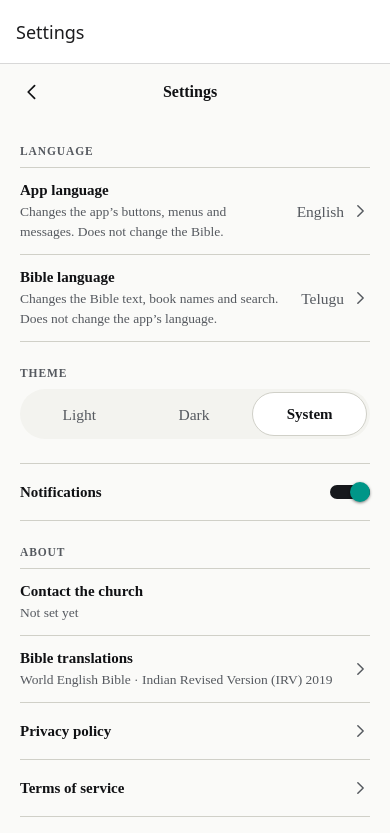
Test case: SettingsScreen › says so when a change saved locally but could not reach the account
Click the button with test id "settings-bible-language": click(195, 298) [20,255,370,341]
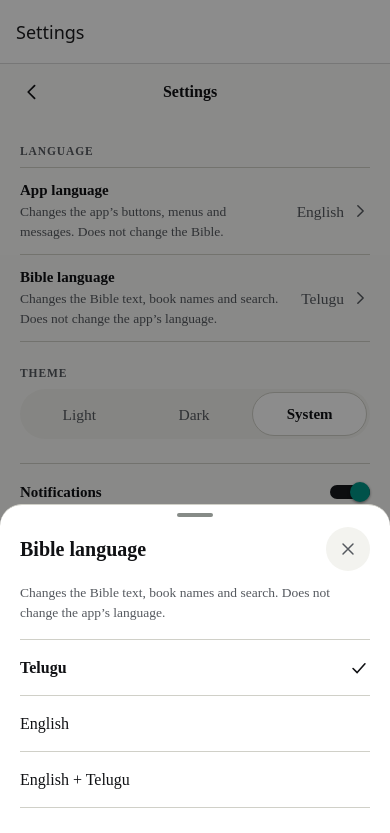
Click the radio button with test id "settings-bible-language-en": click(195, 724) [20,696,370,752]
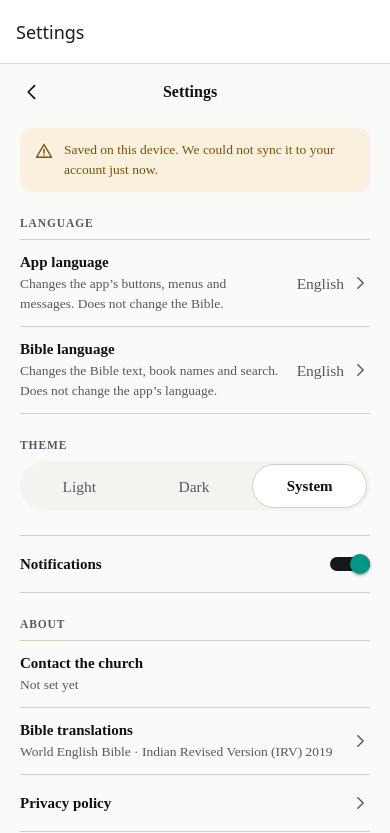
Now the element with test id "settings-sync-failed" is shown, box [20,128,370,192]
Now the text "Saved on this device. We could not sync it to your account just now." is shown, box [64,140,356,180]
Now the button with test id "settings-bible-language" shows "English", box [20,327,370,413]
